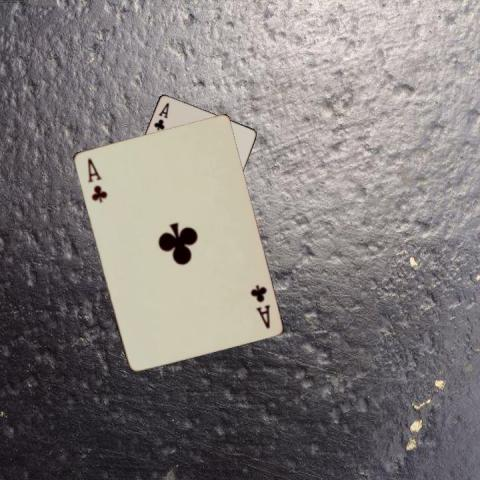Ac: (84, 155, 108, 204), (248, 281, 272, 330), (151, 100, 171, 132)
